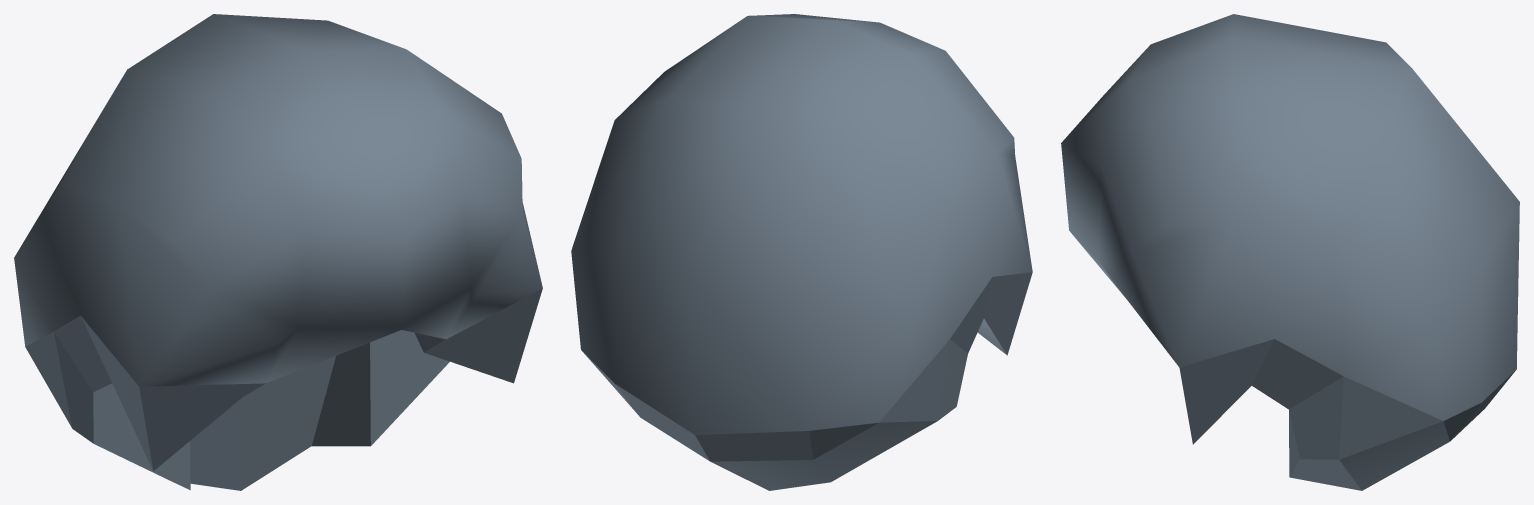
Rendered from HairShortGrey.fbx.
The picture shows the model from 3 angles, left to right: view 1: azimuth 30°, elevation 25°; view 2: azimuth 150°, elevation 25°; view 3: azimuth 270°, elevation 25°; orthographic projection. The views are drawn at different scales.
Visible parts, largest first — view 1: HairShortGrey; view 2: HairShortGrey; view 3: HairShortGrey.
Boxes of the visible parts, left/top/right/bottom form: HairShortGrey: left=14, top=14, right=542, bottom=490; HairShortGrey: left=571, top=14, right=1032, bottom=490; HairShortGrey: left=1061, top=14, right=1519, bottom=490.
Bounding box in the file's own units: 51.57 × 57.85 × 54.02.
